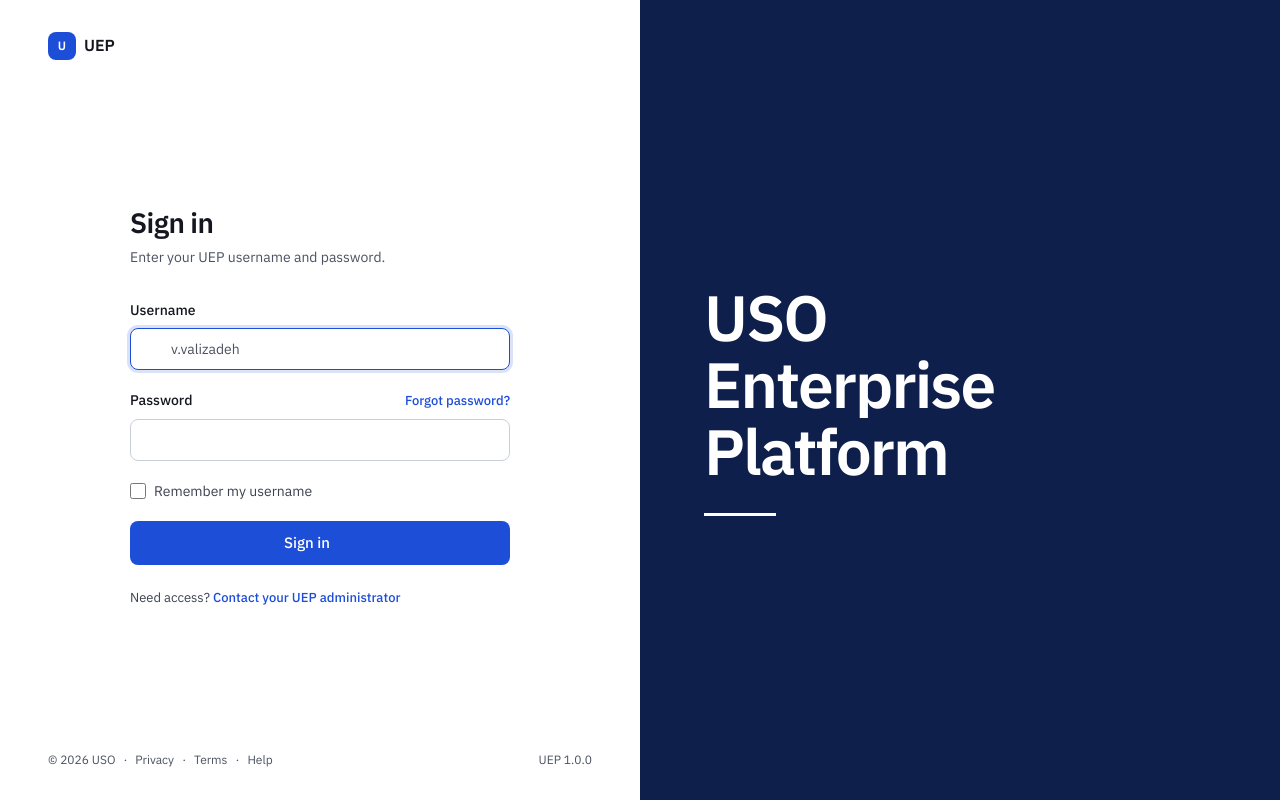
the password toggle › shows and hides the password, and says which it will do
In the password field labelled "Password": (320, 440) top-left (130, 419), bottom-right (510, 461), type "secret"
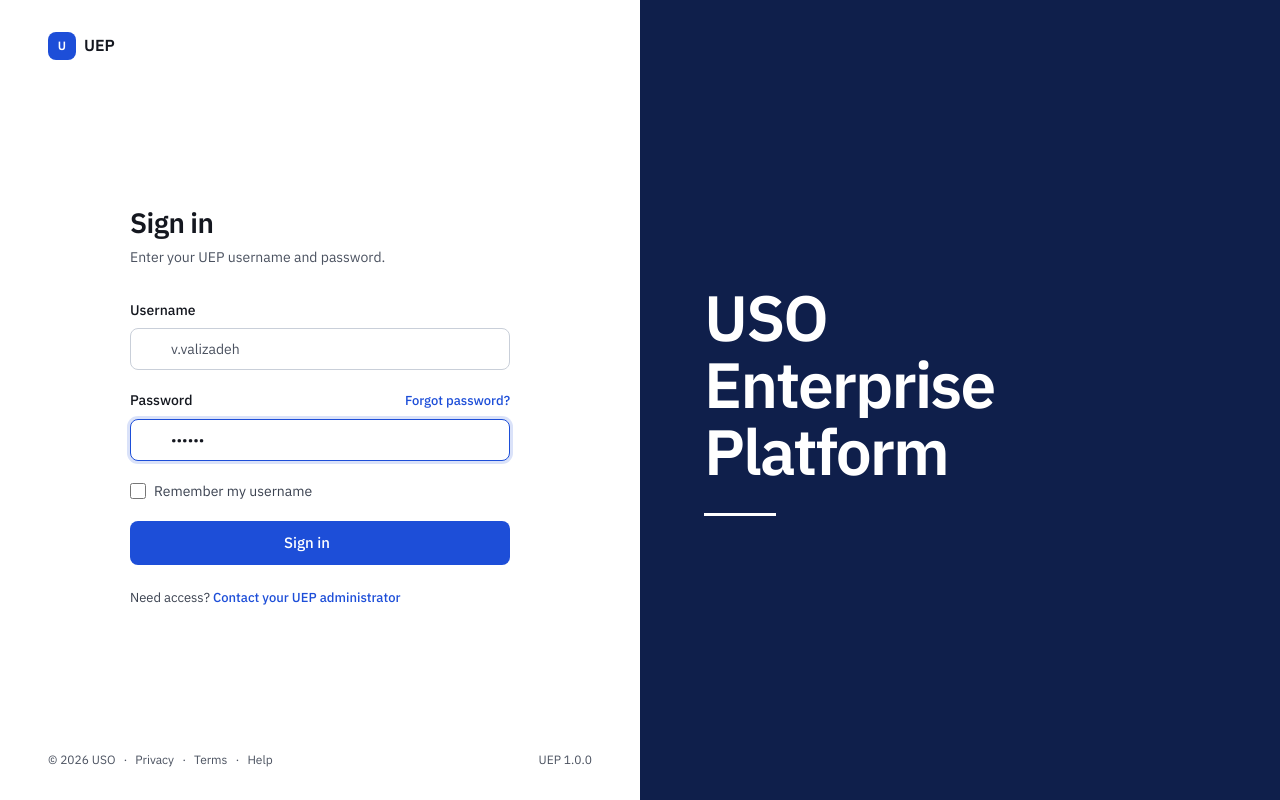
Click the button named "Show password": (489, 440) top-left (472, 423), bottom-right (506, 457)
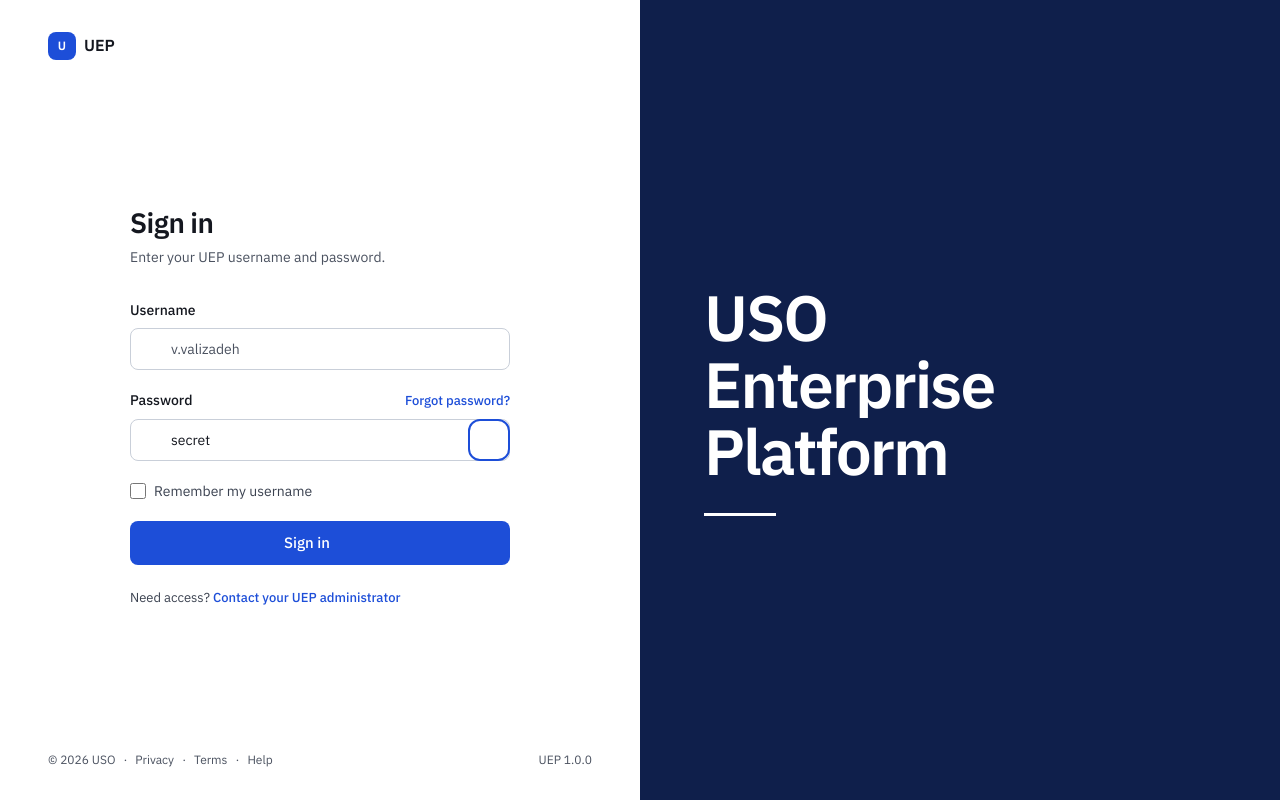
expect the field labelled "Password" shows its text: met, box top-left (130, 419), bottom-right (510, 461)
Click the button named "Hide password": (489, 440) top-left (472, 423), bottom-right (506, 457)
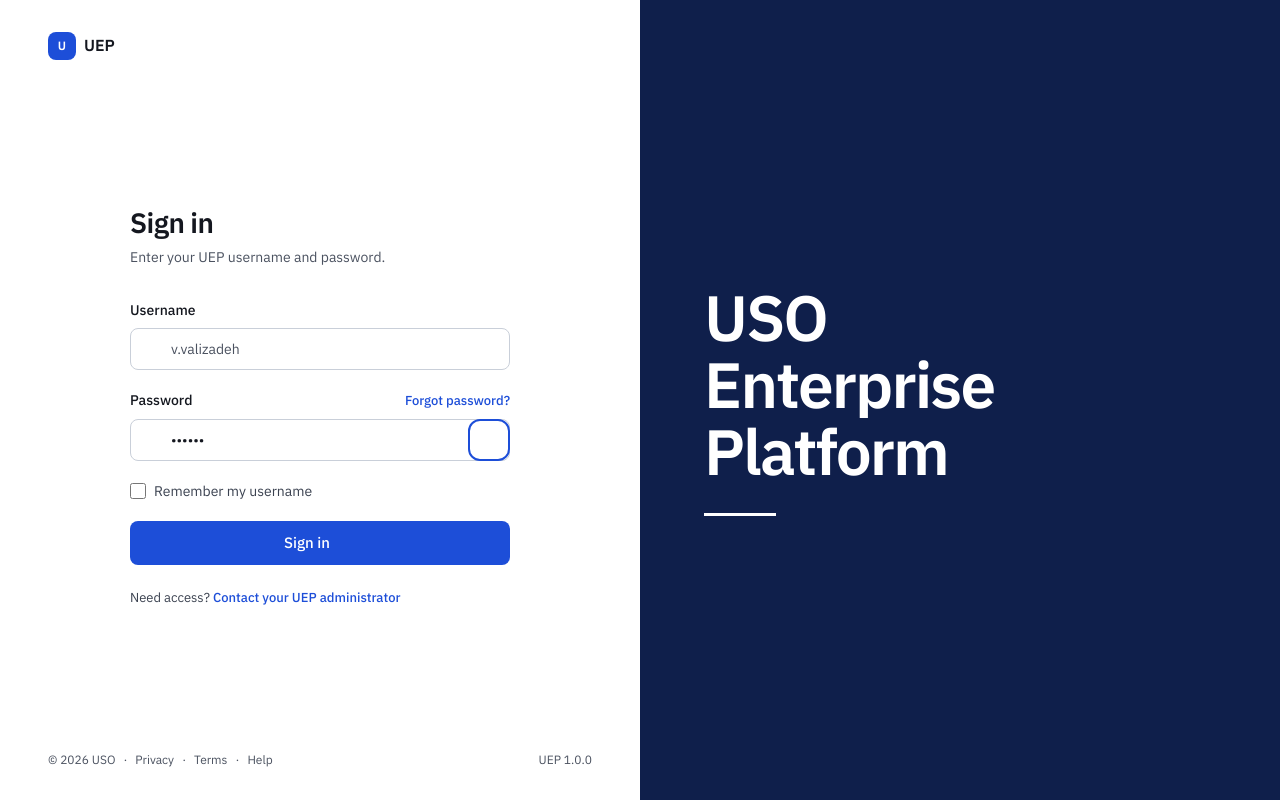
expect the password field labelled "Password" hides its text: met, box top-left (130, 419), bottom-right (510, 461)
